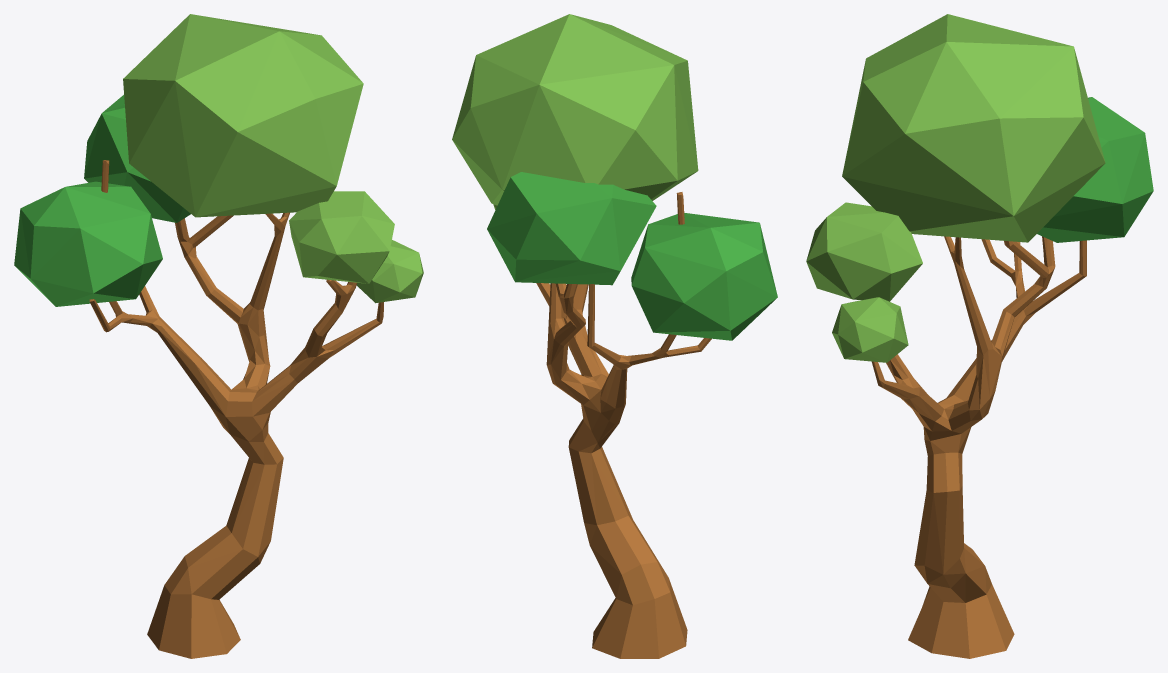
The model's file is tree_01.glb.
3 views of the same model, side by side, from view 1: azimuth 30°, elevation 25°; view 2: azimuth 150°, elevation 25°; view 3: azimuth 270°, elevation 25° (orthographic). The views are drawn at different scales.
Parts seen in each view (by area): view 1: Lowpoly_Tree_01_Material.001_0, Lowpoly_Tree_01_Material_0, Lowpoly_Tree_01_Material.002_0; view 2: Lowpoly_Tree_01_Material.001_0, Lowpoly_Tree_01_Material.002_0, Lowpoly_Tree_01_Material_0; view 3: Lowpoly_Tree_01_Material.001_0, Lowpoly_Tree_01_Material_0, Lowpoly_Tree_01_Material.002_0.
Boxes of the visible parts, box(x1,y1,x2,y2) form: Lowpoly_Tree_01_Material.001_0: box(123, 14, 423, 303); Lowpoly_Tree_01_Material_0: box(89, 160, 383, 658); Lowpoly_Tree_01_Material.002_0: box(14, 95, 190, 306); Lowpoly_Tree_01_Material.001_0: box(452, 14, 698, 209); Lowpoly_Tree_01_Material.002_0: box(487, 172, 777, 340); Lowpoly_Tree_01_Material_0: box(536, 192, 711, 658); Lowpoly_Tree_01_Material.001_0: box(806, 14, 1105, 362); Lowpoly_Tree_01_Material_0: box(872, 236, 1086, 658); Lowpoly_Tree_01_Material.002_0: box(1037, 97, 1153, 242).
Bounding box in the file's own units: 0.9605 × 1.64 × 0.811.
